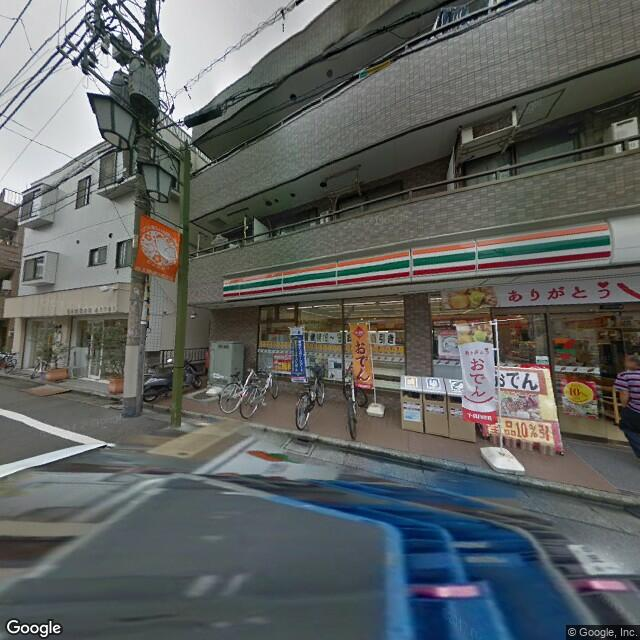7-eleven: (220, 212, 613, 302)
